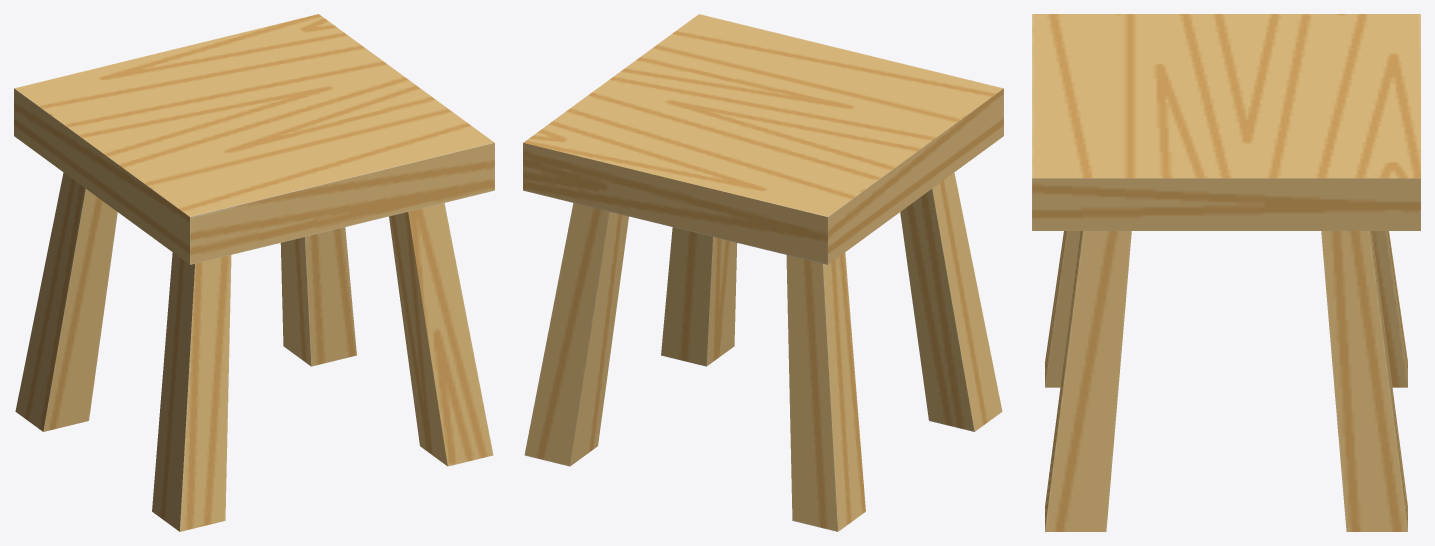
File: Y1BoxChair2.fbx
3 renders of one model, left to right at view 1: azimuth 30°, elevation 25°; view 2: azimuth 150°, elevation 25°; view 3: azimuth 270°, elevation 25°, orthographic. The views are drawn at different scales.
Visible parts, largest first — view 1: kiisu; view 2: kiisu; view 3: kiisu.
Part boxes in pixels (x1=…): kiisu: x1=14, y1=14, x2=494, y2=531; kiisu: x1=523, y1=14, x2=1003, y2=531; kiisu: x1=1032, y1=14, x2=1420, y2=531.
Bounding box in the file's own units: 1.03 × 0.9971 × 1.
1 material, 1 textured.
